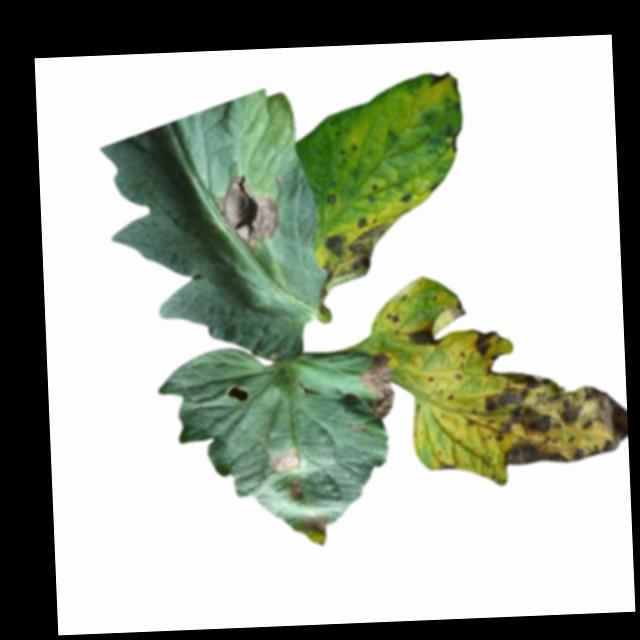Early_blight: (483, 363, 628, 466), (319, 212, 396, 284), (219, 171, 281, 254), (360, 350, 397, 421), (405, 324, 445, 347), (270, 448, 301, 475), (470, 329, 500, 355), (301, 511, 327, 536), (287, 480, 304, 503), (382, 307, 404, 323), (323, 187, 338, 208), (428, 70, 450, 83), (398, 188, 415, 204), (437, 460, 457, 470)
